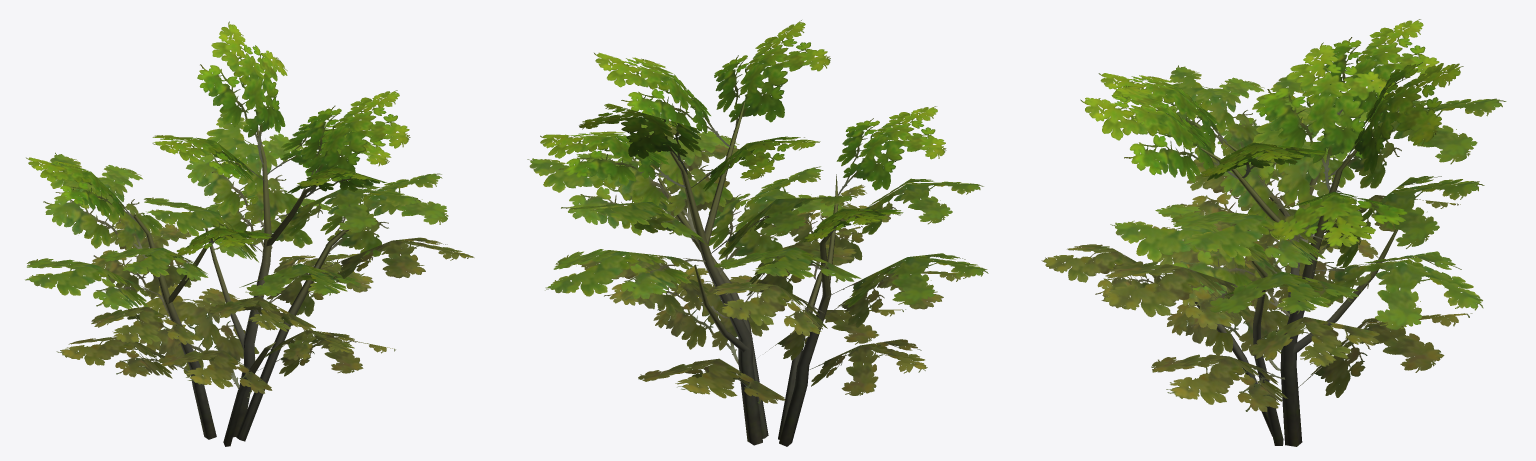
Rendered from Scene_guanmu_006.FBX.
3 renders of one model, left to right at view 1: azimuth 30°, elevation 25°; view 2: azimuth 150°, elevation 25°; view 3: azimuth 270°, elevation 25°, orthographic. The views are drawn at different scales.
Visible parts, largest first — view 1: Scene_guanmu_006; view 2: Scene_guanmu_006; view 3: Scene_guanmu_006.
Part boxes in pixels (bbox=[...]): Scene_guanmu_006: bbox=[25, 21, 474, 446]; Scene_guanmu_006: bbox=[527, 20, 988, 446]; Scene_guanmu_006: bbox=[1041, 19, 1506, 446].
Size of the model in its own units: 288 by 219 by 230.
